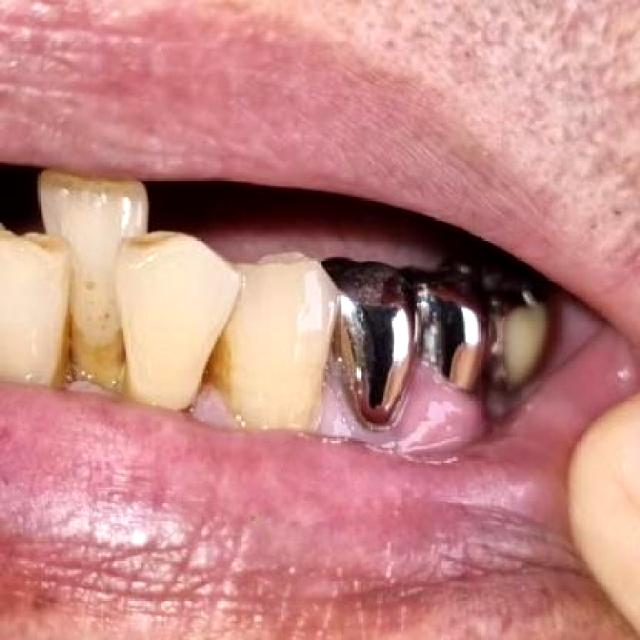Plaque: (71, 374, 240, 433)
